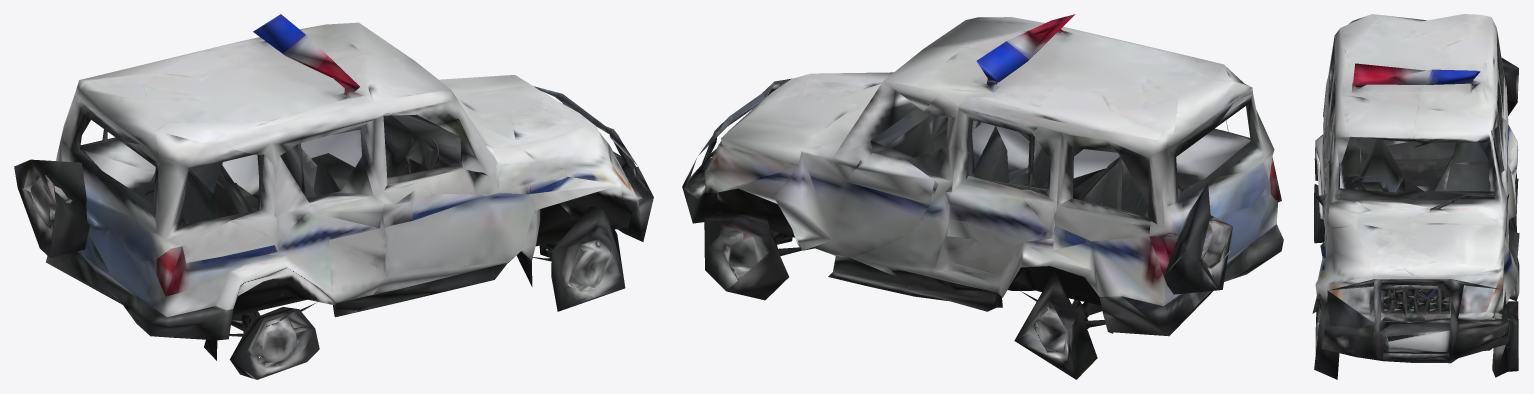
File: police_2.glb
3 views of the same model, side by side, from view 1: azimuth 30°, elevation 25°; view 2: azimuth 150°, elevation 25°; view 3: azimuth 270°, elevation 25° (orthographic). The views are drawn at different scales.
Visible parts, largest first — view 1: tripo_node_a0111b5e-0ca0-44f2-8589-67dc1035ec91; view 2: tripo_node_a0111b5e-0ca0-44f2-8589-67dc1035ec91; view 3: tripo_node_a0111b5e-0ca0-44f2-8589-67dc1035ec91.
Part boxes in pixels (box(x1,y1,x2,y2)): tripo_node_a0111b5e-0ca0-44f2-8589-67dc1035ec91: box(14, 14, 653, 379); tripo_node_a0111b5e-0ca0-44f2-8589-67dc1035ec91: box(682, 14, 1283, 379); tripo_node_a0111b5e-0ca0-44f2-8589-67dc1035ec91: box(1312, 14, 1519, 379).
Size of the model in its own units: 0.9959 by 0.497 by 0.4161.
Materials: 1 (1 with a texture image).
